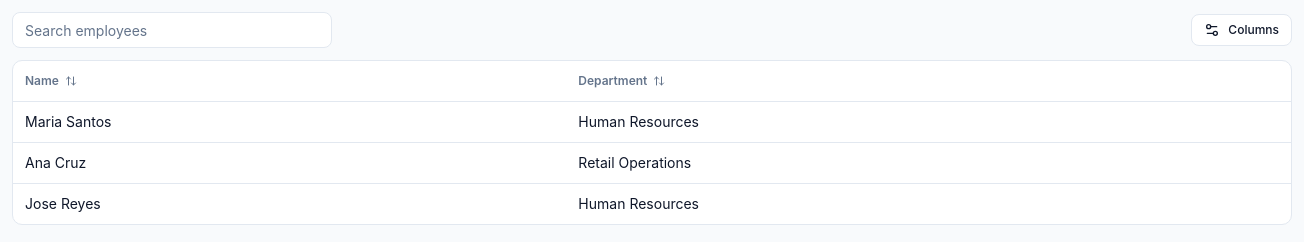
Scenario: DataTable › filters across every column from the search box
Type "Retail" into the field labelled "Search employees" at (172, 30), box [12,12,332,48]
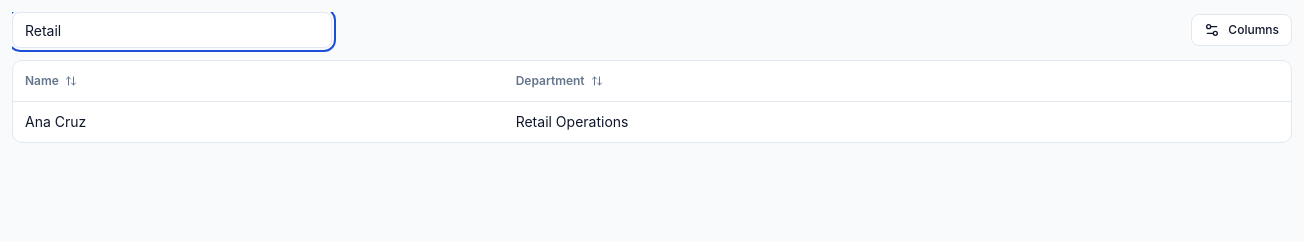
Expected: the text "Ana Cruz" is shown, [13,101,504,142]
Now the text "Maria Santos" is gone
